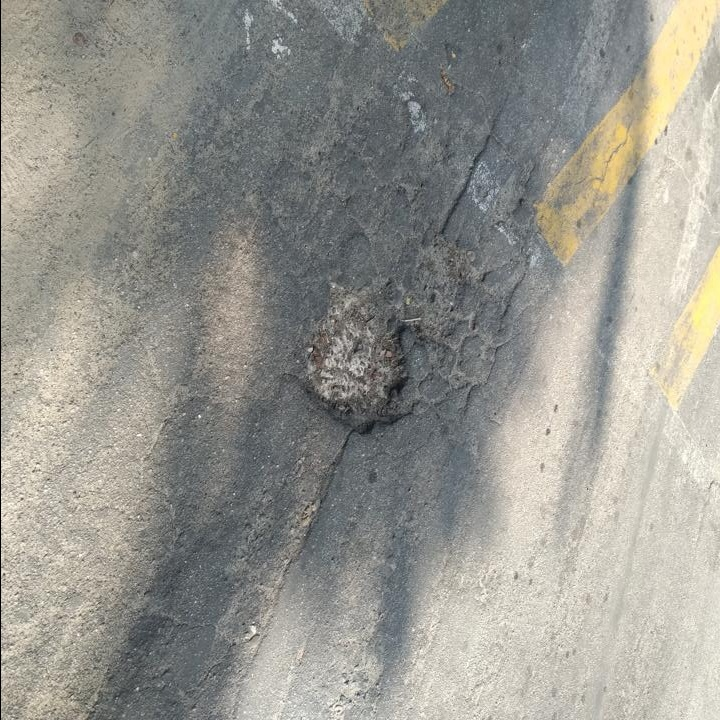pothole: (296, 274, 418, 440), (408, 229, 474, 344), (493, 155, 538, 218)
